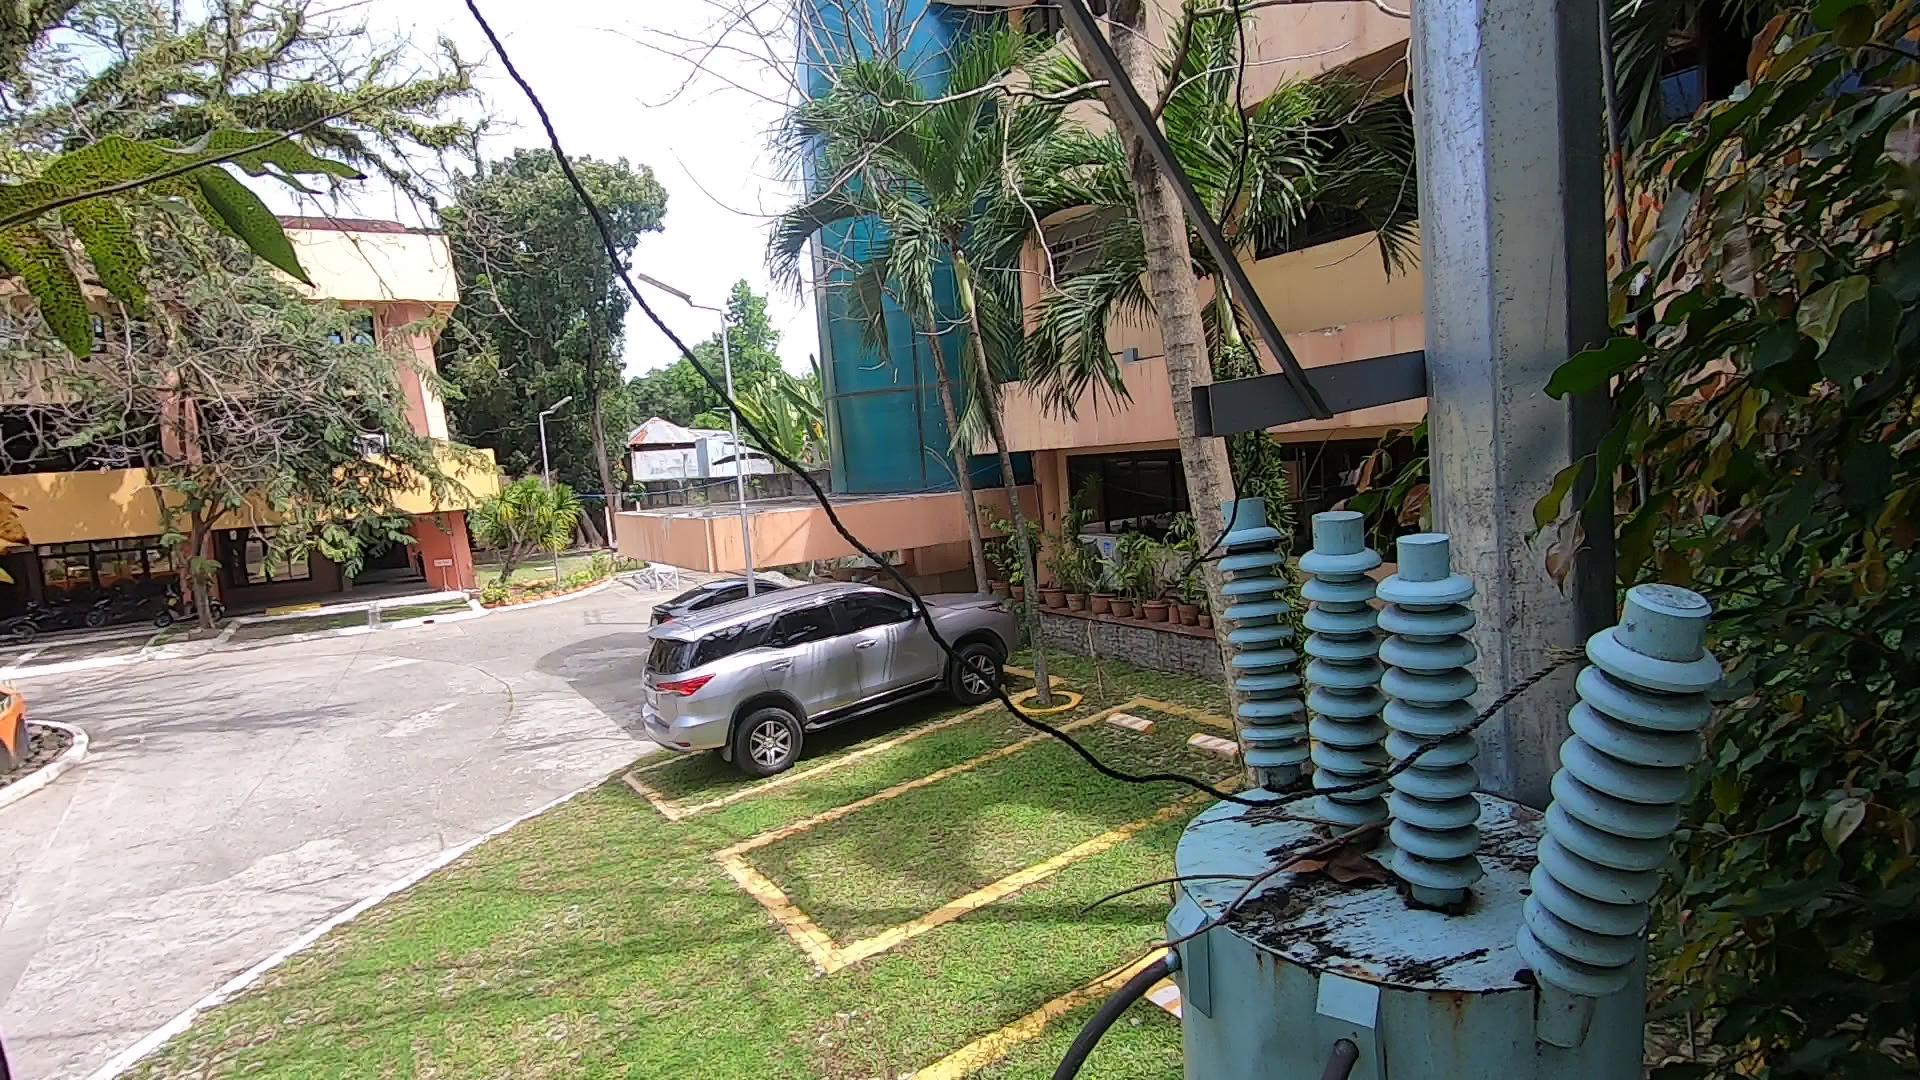leaf: (1265, 839, 1394, 882), (1251, 775, 1311, 798)
tree branch: (1076, 803, 1402, 953)
